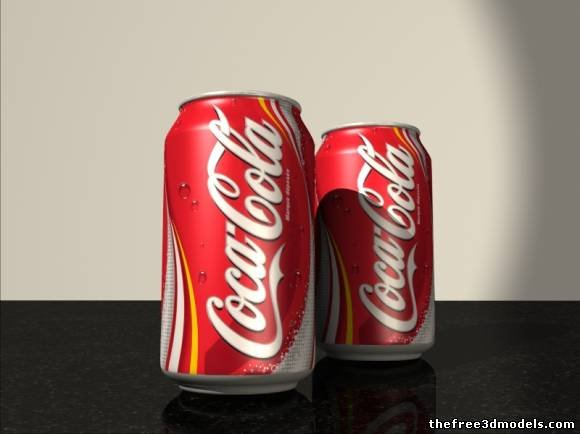coke: (167, 97, 310, 386), (317, 125, 444, 358)
